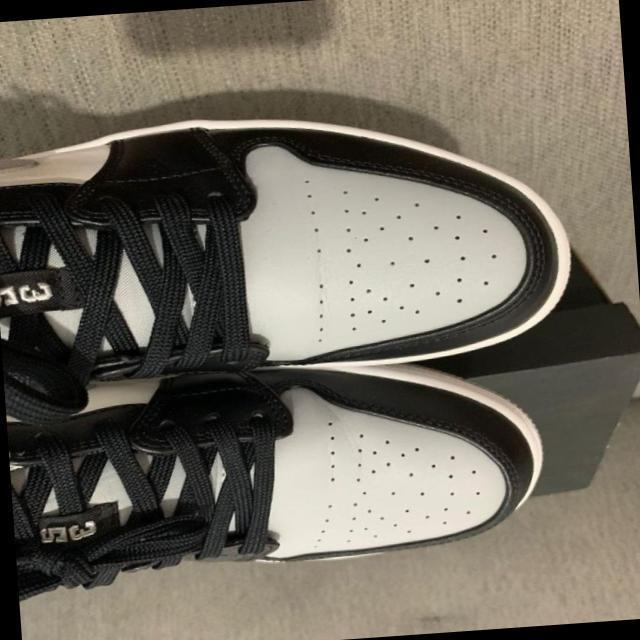nike fake jordan 1: (0, 94, 582, 390), (3, 348, 554, 588)
